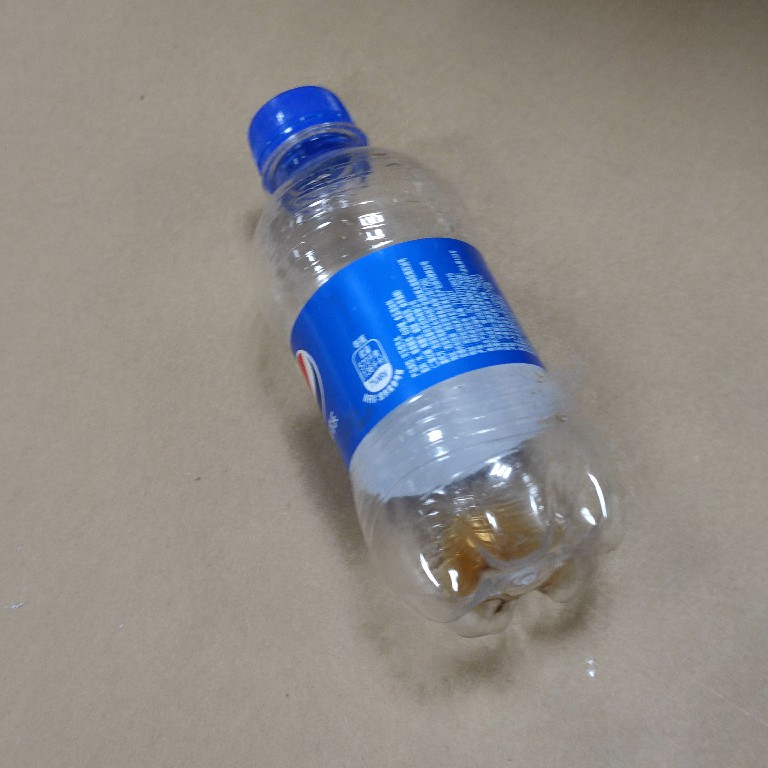bottle: (237, 76, 632, 648)
